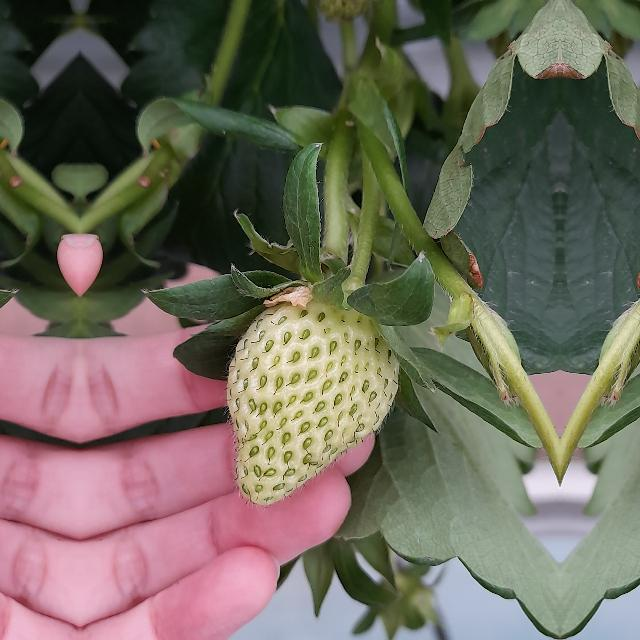Health_25: (227, 299, 399, 505)
